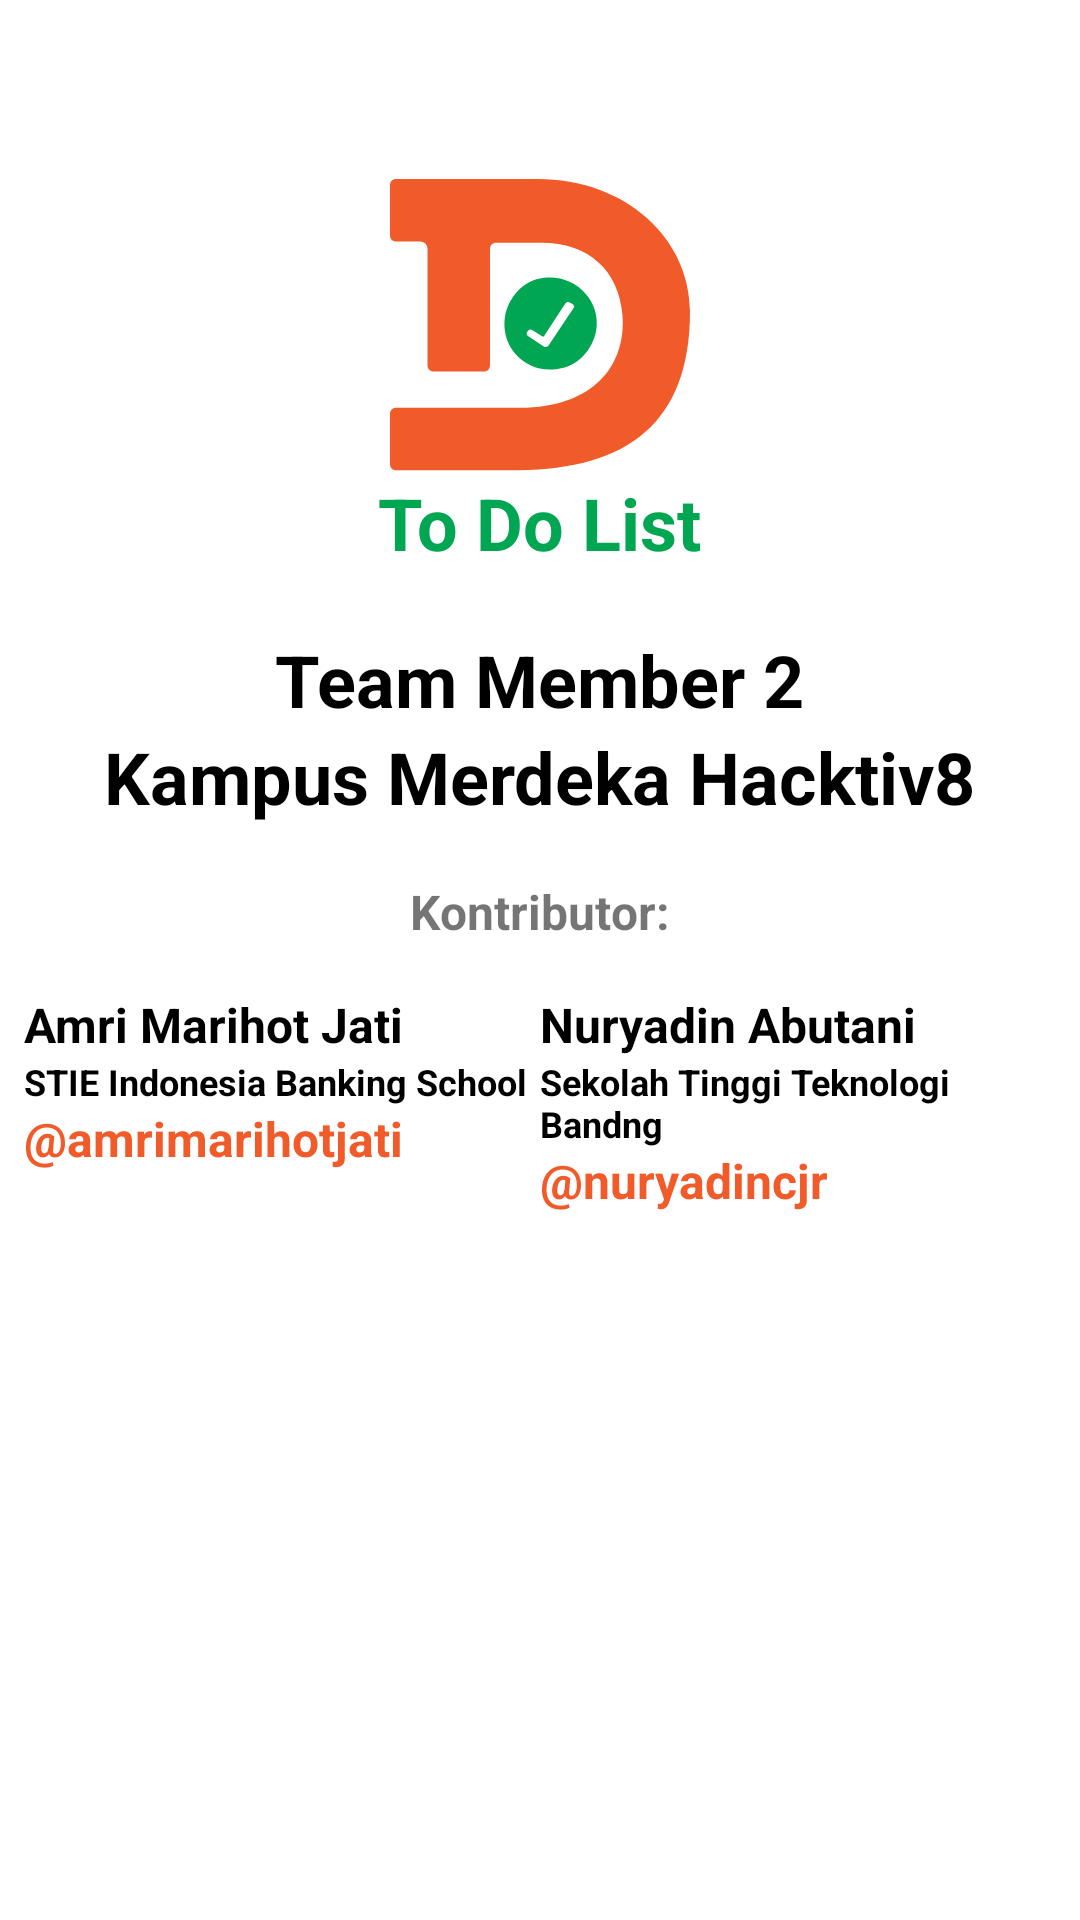

Named icons in this screenshot (1080*1920) and their centers, (x,y):
brand: (540,325)
